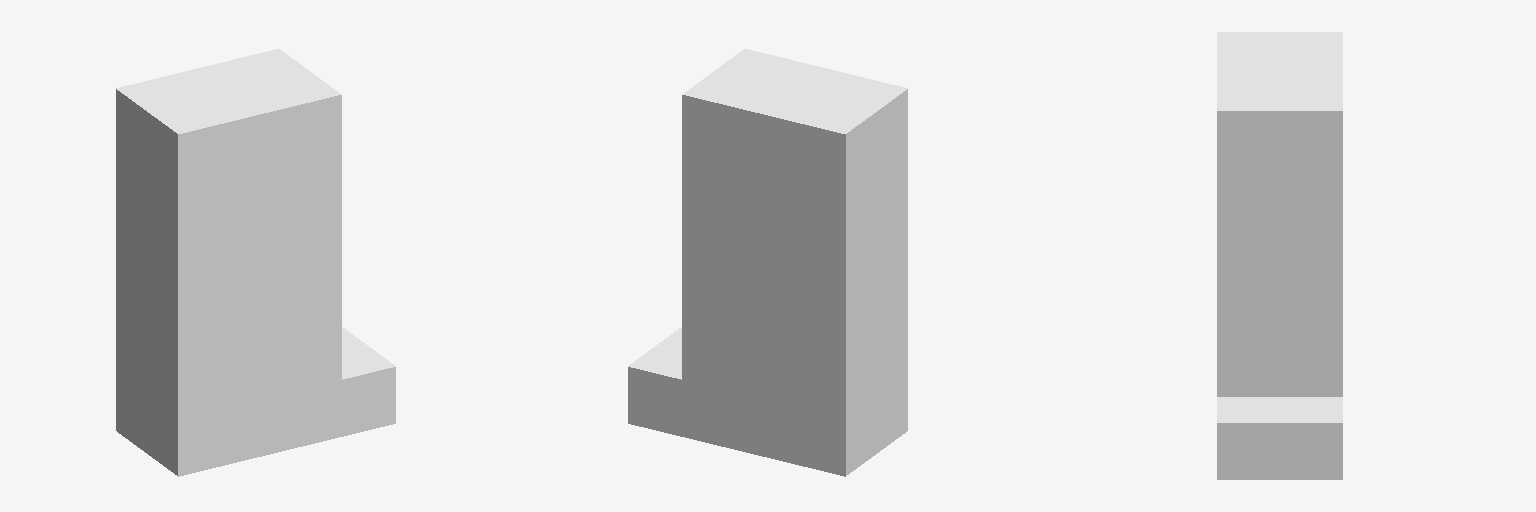
File: Gun1-6.obj
The picture shows the model from 3 angles: view 1: azimuth 30°, elevation 25°; view 2: azimuth 150°, elevation 25°; view 3: azimuth 270°, elevation 25°; orthographic projection.
Visible parts, largest first — view 1: object 1; view 2: object 1; view 3: object 1.
Part boxes in pixels (bbox=[...]): object 1: bbox=[116, 49, 395, 476]; object 1: bbox=[628, 49, 907, 476]; object 1: bbox=[1217, 32, 1342, 479].
Size of the model in its own units: 0.8 by 1.2 by 0.4.